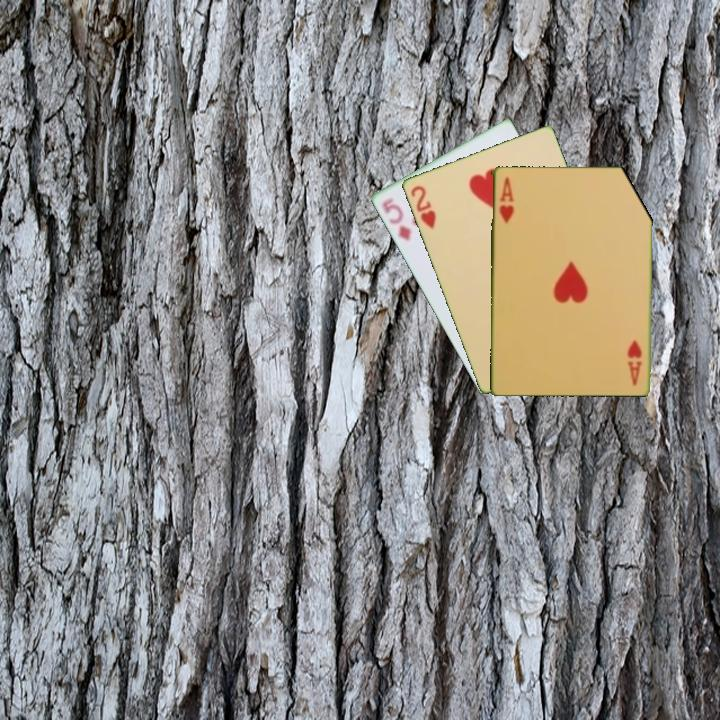2h: (407, 182, 439, 232)
5d: (378, 194, 413, 244)
Ah: (496, 173, 516, 227), (625, 336, 644, 388)
